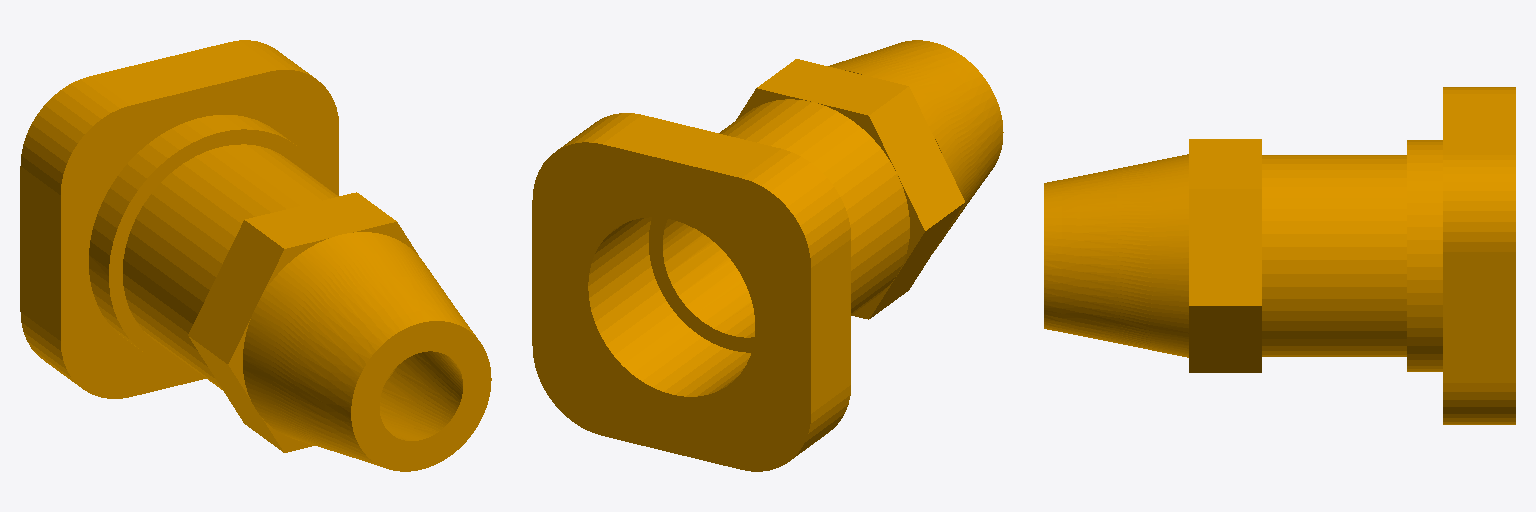
robot.urdf — air_jet:
<?xml version="1.0"?>

<robot name="air_jet">

    <link name="base_link">

        <visual>
            <origin xyz="0 0 0" rpy="0 0 0"/>
            <geometry>
                <mesh
                    filename="../meshes/blower.stl"
                    scale="0.01 0.01 0.01"/>
            </geometry>
        </visual>

        <collision>
            <origin xyz="0 0 0" rpy="0 0 0"/>
            <geometry>
                <mesh
                    filename="../meshes/blower.stl"
                    scale="0.01 0.01 0.01"/>
            </geometry>
        </collision>

        <inertial>
            <mass value="1.0"/>
            <inertia
                ixx="0.01"
                iyy="0.01"
                izz="0.01"
                ixy="0"
                ixz="0"
                iyz="0"/>
        </inertial>

    </link>

</robot>

--- What the picture shows (computed from the rendered views, not written in the file) ---
Views: 3 orthographic renders of the robot side by side, from view 1: azimuth 30°, elevation 25°; view 2: azimuth 150°, elevation 25°; view 3: azimuth 270°, elevation 25°.
Robot: air_jet — 1 links, 0 joints (none); root link base_link; default pose: all joints at 0.
Links seen in each view (by area): view 1: base_link; view 2: base_link; view 3: base_link.
Boxes of the visible links, x1,y1,x2,y2 form: base_link: (20, 40, 491, 471); base_link: (532, 40, 1003, 471); base_link: (1044, 87, 1515, 424).
Size in the robot's own frame: 0.5 by 0.8125 by 0.5 metres.
Meshes: 1 distinct files referenced, 1 mesh visuals loaded (1 binary STL).
